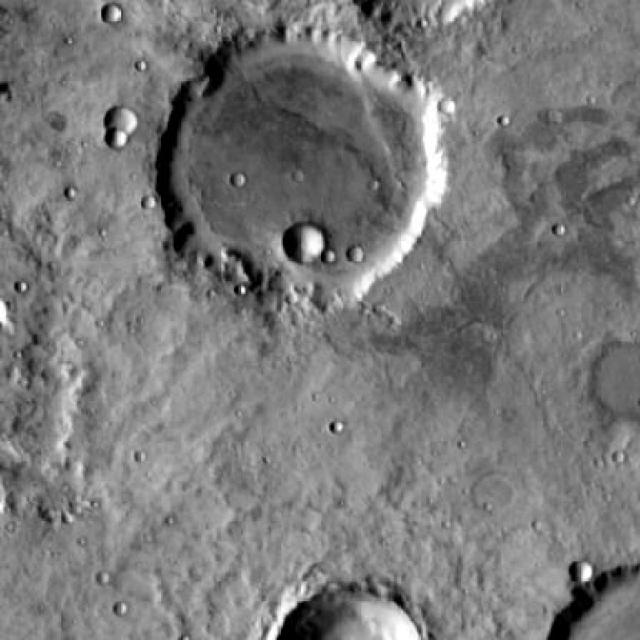crater: (159, 22, 446, 287), (274, 584, 419, 640), (470, 470, 516, 512), (282, 223, 324, 263), (102, 104, 136, 136), (0, 300, 26, 326), (570, 556, 596, 581), (346, 245, 365, 262), (107, 130, 125, 147), (104, 4, 121, 21), (454, 96, 472, 112), (86, 264, 103, 279), (230, 174, 247, 189)
